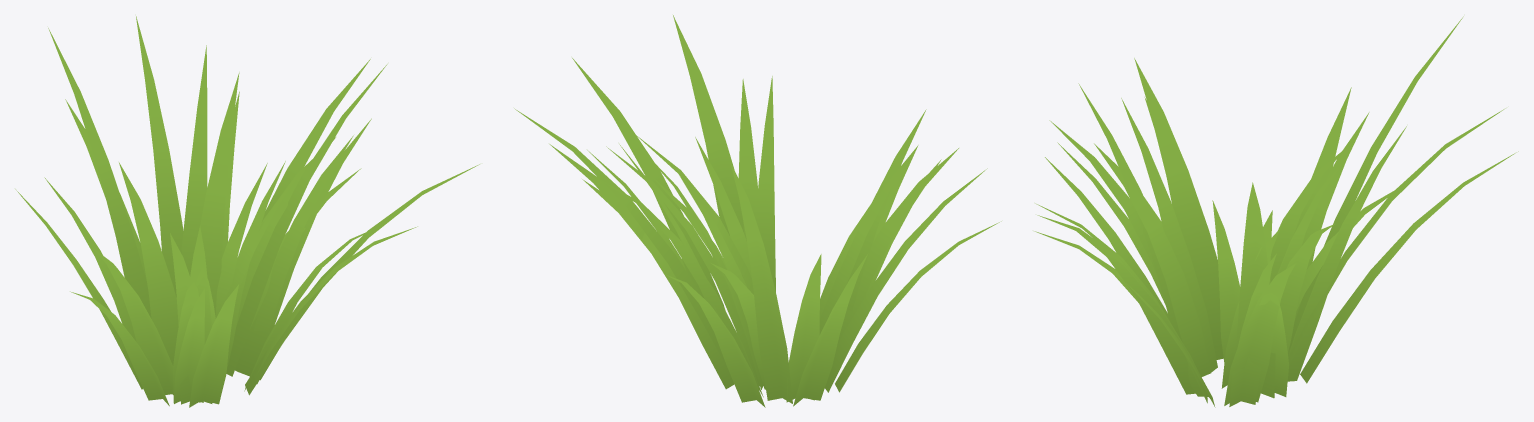
The model's file is grass_tuft1_s23788.gltf.
3 views of the same model, side by side, from view 1: azimuth 30°, elevation 25°; view 2: azimuth 150°, elevation 25°; view 3: azimuth 270°, elevation 25° (orthographic). The views are drawn at different scales.
Visible parts, largest first — view 1: grass_tuft1_s23788_blade_LOD0; view 2: grass_tuft1_s23788_blade_LOD0; view 3: grass_tuft1_s23788_blade_LOD0.
Part boxes in pixels (x1,y1,x2,y2): grass_tuft1_s23788_blade_LOD0: (15, 16, 479, 407); grass_tuft1_s23788_blade_LOD0: (514, 15, 1001, 407); grass_tuft1_s23788_blade_LOD0: (1034, 16, 1518, 407).
Size of what is drawn, in the model's own units: 0.4931 by 0.3622 by 0.4755.
